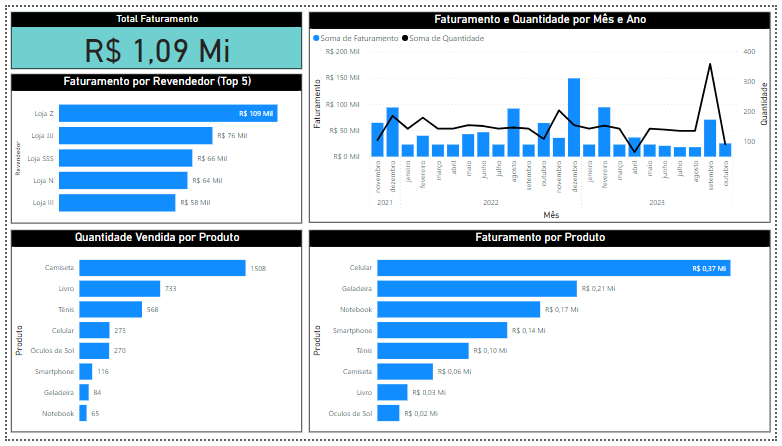

This screenshot's page, from the dashboard's own definition file:
{"tool":"powerbi","page":{"name":"faturamento_geral","canvas":[1280,720],"ordinal":0},"visuals":[{"type":"card","title":"Total Faturamento","fields":{"Values":["Sum(fato_vendas.Faturamento)"]},"box":[7.2,8.6,485.3,95],"z":0},{"type":"barChart","title":"Faturamento por Revendedor (Top 5)","fields":{"Category":["fato_relatorio_vendas.Revendedor"],"Y":["Sum(fato_relatorio_vendas.Faturamento)"]},"box":[7.2,110.9,485.3,249.1],"z":1000},{"type":"barChart","title":"Quantidade Vendida por Produto","fields":{"Category":["fato_relatorio_vendas.Produto"],"Y":["Sum(fato_relatorio_vendas.Quantidade)"]},"box":[7.2,371.5,485.3,337],"z":2000},{"type":"clusteredBarChart","title":"Faturamento por Produto","fields":{"Category":["fato_relatorio_vendas.Produto"],"Y":["Sum(fato_relatorio_vendas.Faturamento)"]},"box":[502.6,371.5,769,337],"z":3000},{"type":"lineStackedColumnComboChart","title":"Faturamento e Quantidade por Mês e Ano","fields":{"Y":["Sum(fato_relatorio_vendas.Faturamento)"],"Y2":["Sum(fato_relatorio_vendas.Quantidade)"],"Category":["fato_relatorio_vendas.Data.Variation.Hierarquia de datas.Ano","fato_relatorio_vendas.Data.Variation.Hierarquia de datas.Mês"]},"box":[502.6,8.6,769,351.4],"z":4000}]}

Visuals, with their boxes in screenshot pixels (x1, y1, x2, y2), scaled from the page's 1280x720 canvas onto the 782x446 screenshot:
"Total Faturamento" card: select_region(4, 5, 301, 64)
"Faturamento por Revendedor (Top 5)" barChart: select_region(4, 69, 301, 223)
"Quantidade Vendida por Produto" barChart: select_region(4, 230, 301, 439)
"Faturamento por Produto" clusteredBarChart: select_region(307, 230, 777, 439)
"Faturamento e Quantidade por Mês e Ano" lineStackedColumnComboChart: select_region(307, 5, 777, 223)
